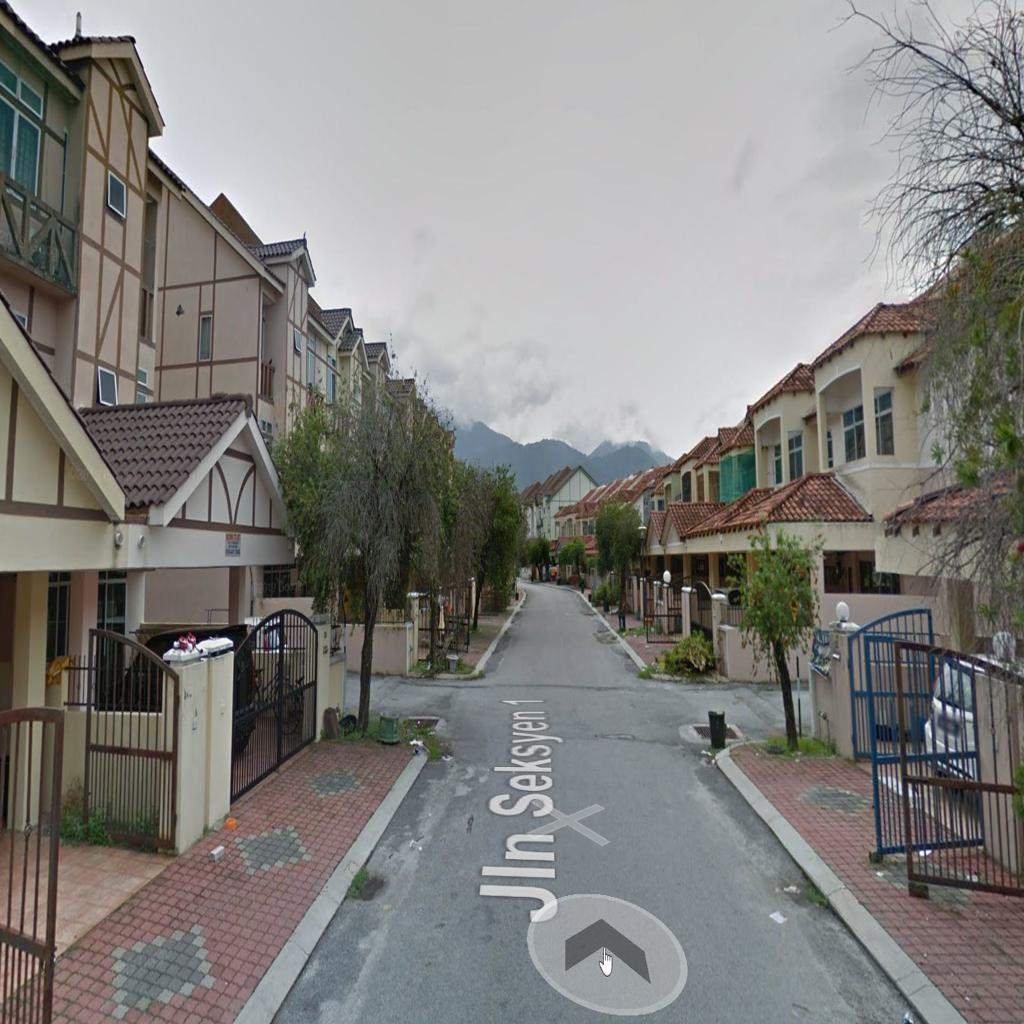Junction: (624, 650, 805, 768), (351, 650, 501, 768)
